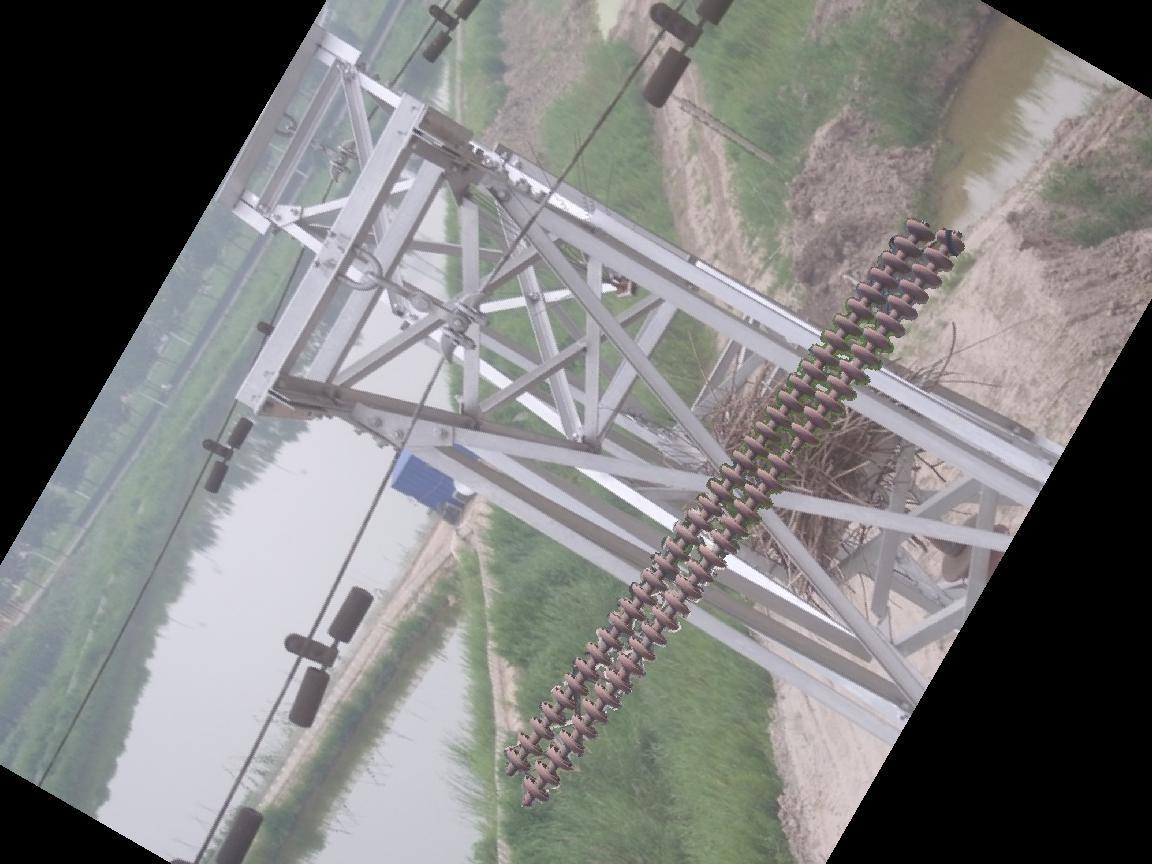insulator: (500, 213, 966, 814)
insulator_stringdrop: (765, 419, 825, 479)
